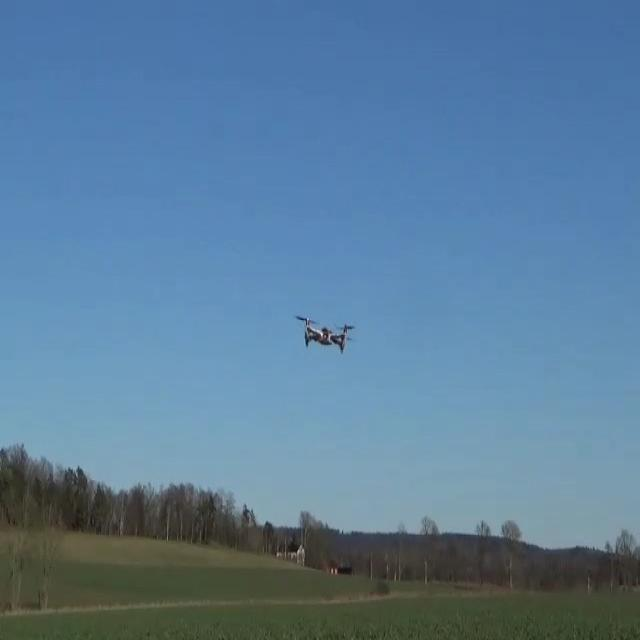drone: (295, 315, 355, 355)
